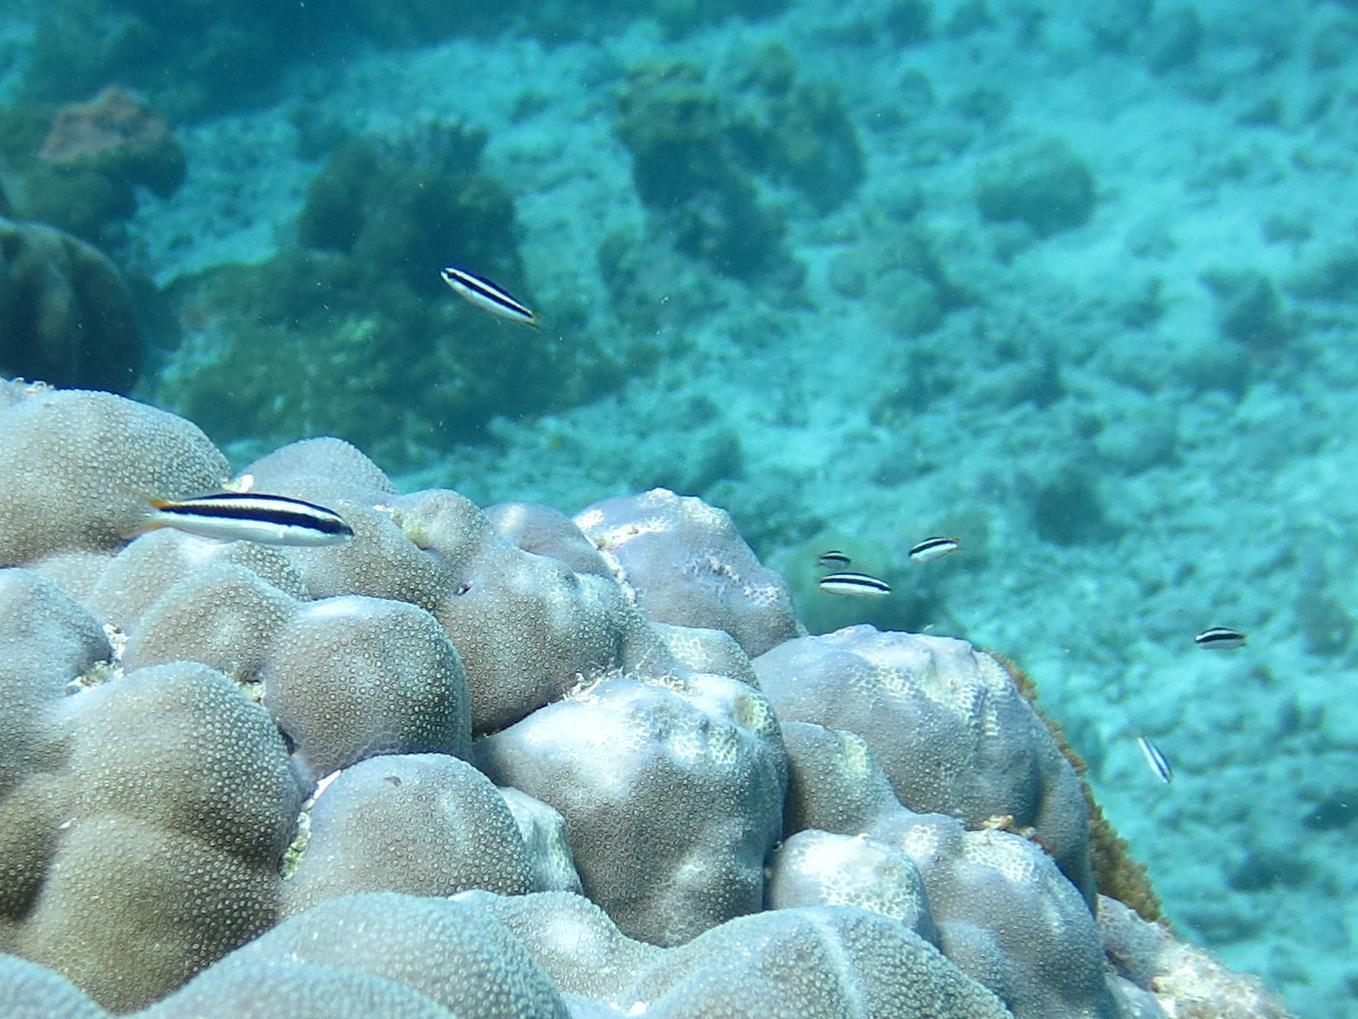Thalassoma amblycephalum: (97, 470, 410, 603), (390, 227, 584, 370), (1124, 716, 1188, 800), (808, 565, 902, 613), (898, 528, 980, 576), (1184, 619, 1265, 660)
